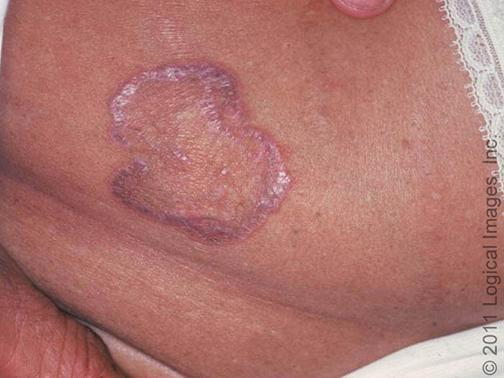annular lichen planus: (92, 55, 313, 254)
